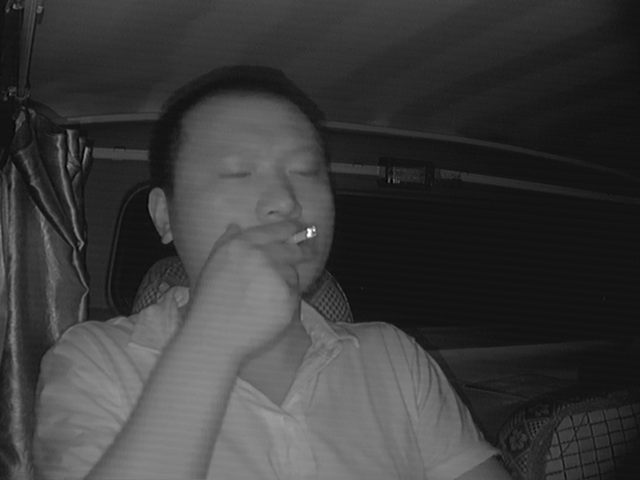hand: (209, 217, 321, 331)
